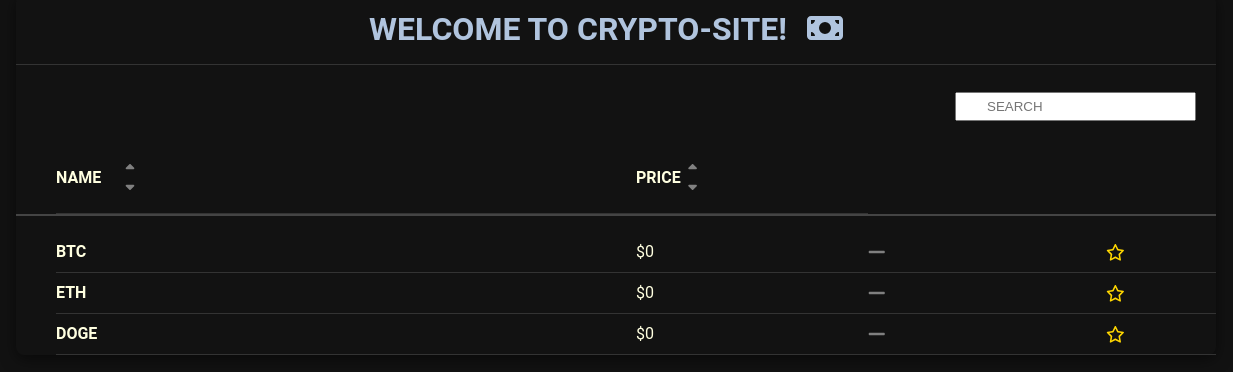
Test: filters symbols on search input
This screenshot has width=1233, height=372.
Step 1. Type "doge" into the field with placeholder "SEARCH" → (1076, 106), box [955,92,1196,121]
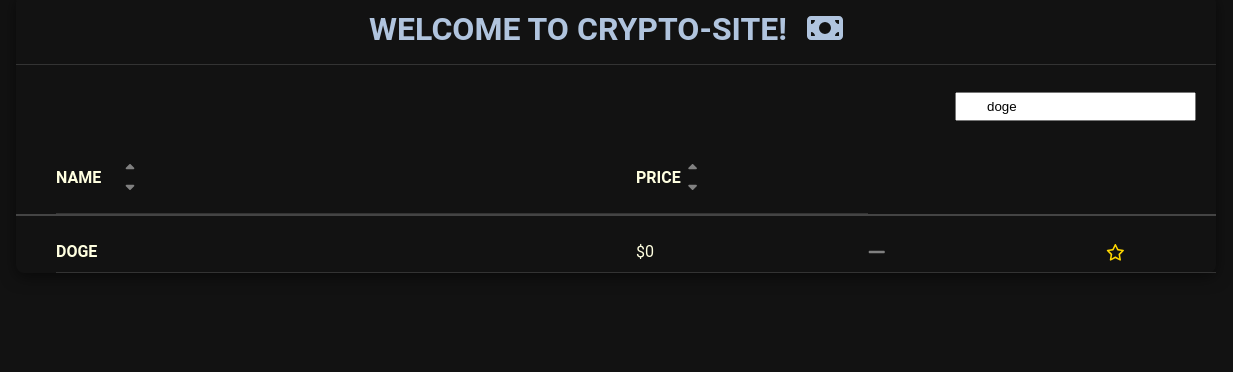
Expected: the text "DOGE" is shown, [56,242,97,261]
Result: the text "BTC" is gone
